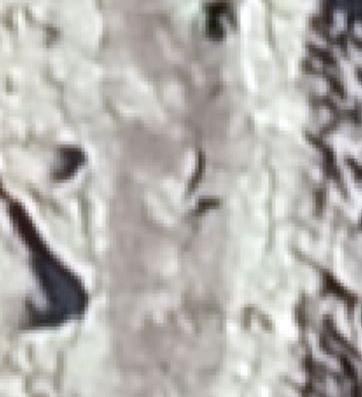cotton: (186, 1, 202, 17)
